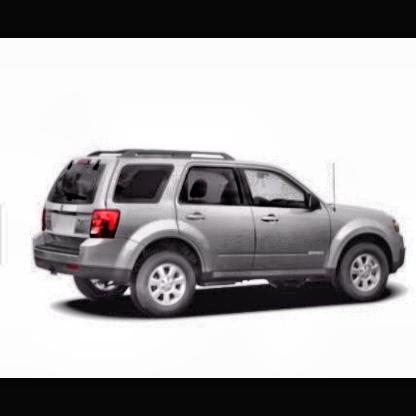Mazda Tribute SUV 2011: (34, 150, 406, 317)
